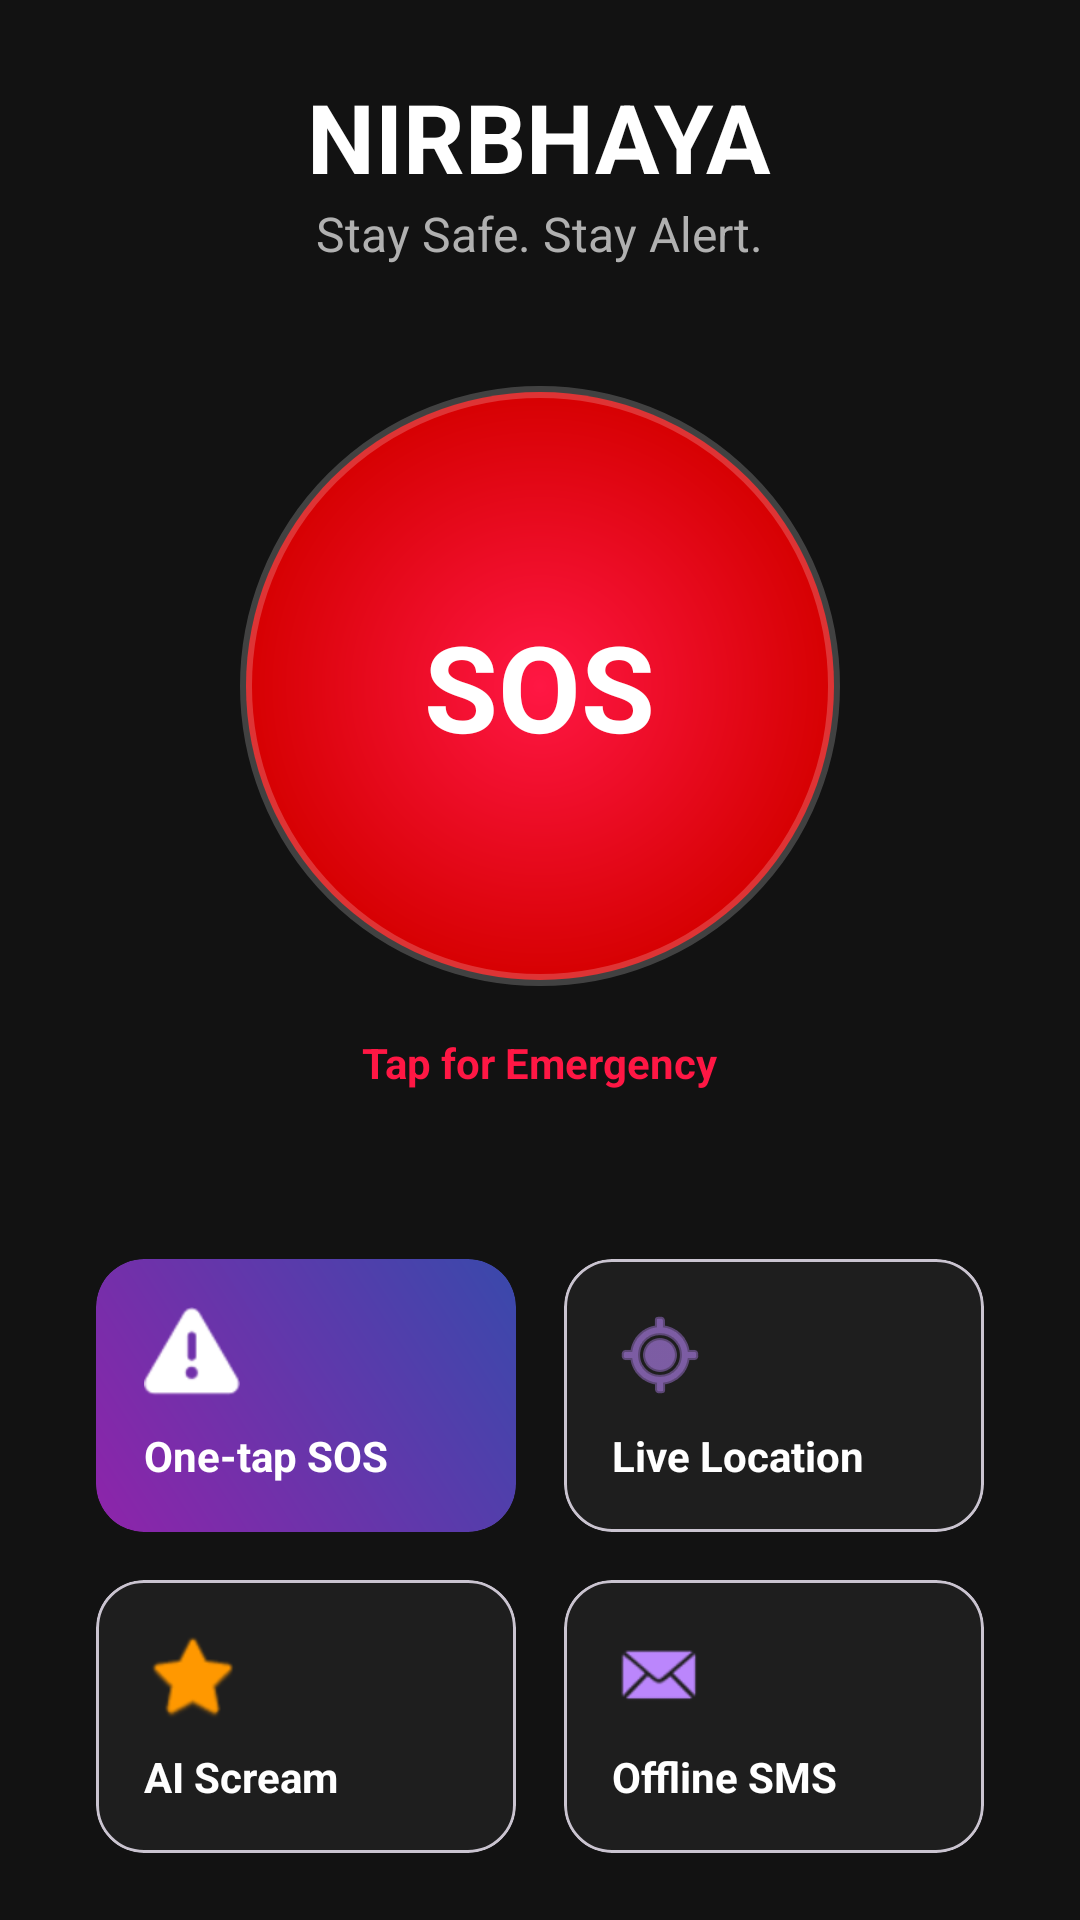

Icons on this 1080×1920 Android screen, each with the point to tap as (x,y):
alert: (192,1351)
mylocation: (660,1355)
star on: (193,1677)
sym action email: (658,1674)
